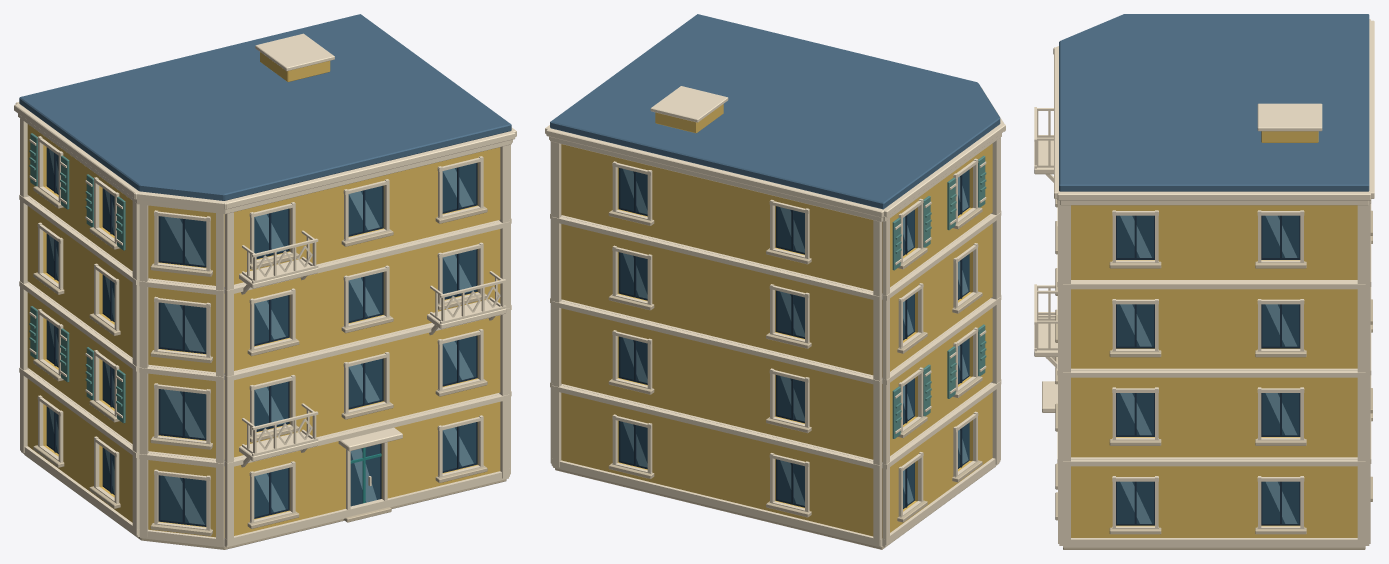
File: faceted_corner_apartments.glb
3 renders of one model, left to right at view 1: azimuth 30°, elevation 25°; view 2: azimuth 150°, elevation 25°; view 3: azimuth 270°, elevation 25°, orthographic. The views are drawn at different scales.
Visible parts, largest first — view 1: FacetedCornerApartments_StaticMesh; view 2: FacetedCornerApartments_StaticMesh; view 3: FacetedCornerApartments_StaticMesh.
Boxes of the visible parts, box(x1,y1,x2,y2) form: FacetedCornerApartments_StaticMesh: box(14, 14, 516, 549); FacetedCornerApartments_StaticMesh: box(545, 14, 1005, 549); FacetedCornerApartments_StaticMesh: box(1034, 14, 1374, 549).
Bounding box in the file's own units: 13.19 × 13.43 × 10.79.
